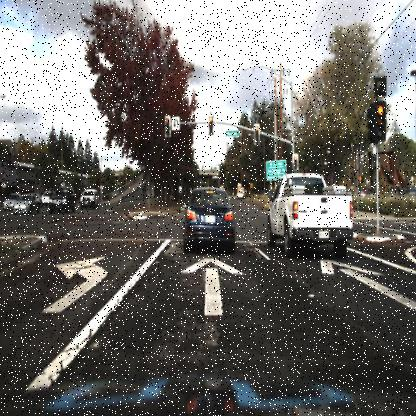car: (265, 173, 354, 259), (184, 186, 236, 252), (49, 185, 74, 215), (14, 192, 39, 217), (81, 186, 100, 210), (4, 193, 18, 209)
trafficLight-Red: (374, 101, 386, 147), (250, 122, 258, 148), (291, 153, 299, 174), (207, 115, 213, 138)
trafficLight-RedLeft: (164, 114, 172, 135)
